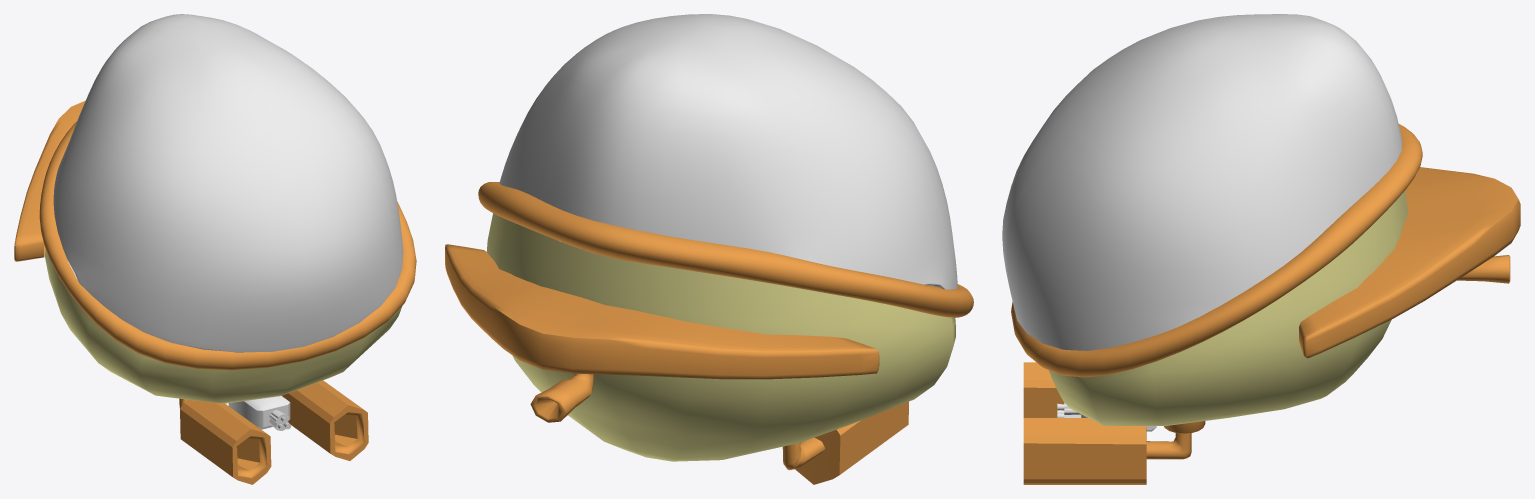
Rendered from SM_RolandVehicle.fbx.
The picture shows the model from 3 angles, left to right: view 1: azimuth 30°, elevation 25°; view 2: azimuth 150°, elevation 25°; view 3: azimuth 270°, elevation 25°; orthographic projection. The views are drawn at different scales.
Visible parts, largest first — view 1: Sm_VehicleGlass, SM_VehicleBody, SM_VehicleMainWeapon_L, SM_VehicleMainWeapon_R, Sm_VehicleSpecialWeapon; view 2: SM_VehicleBody, Sm_VehicleGlass, SM_VehicleMainWeapon_L; view 3: Sm_VehicleGlass, SM_VehicleBody, SM_VehicleMainWeapon_R, SM_VehicleMainWeapon_L.
Part boxes in pixels (bbox=[...]): Sm_VehicleGlass: bbox=[53, 14, 403, 352]; SM_VehicleBody: bbox=[14, 100, 416, 403]; SM_VehicleMainWeapon_L: bbox=[179, 398, 271, 484]; SM_VehicleMainWeapon_R: bbox=[282, 380, 368, 460]; Sm_VehicleSpecialWeapon: bbox=[228, 396, 291, 430]; SM_VehicleBody: bbox=[445, 182, 973, 461]; Sm_VehicleGlass: bbox=[499, 14, 957, 289]; SM_VehicleMainWeapon_L: bbox=[782, 401, 908, 484]; Sm_VehicleGlass: bbox=[1002, 14, 1402, 364]; SM_VehicleBody: bbox=[1011, 124, 1520, 425]; SM_VehicleMainWeapon_R: bbox=[1023, 418, 1205, 484]; SM_VehicleMainWeapon_L: bbox=[1023, 362, 1064, 417].
Bounding box in the file's own units: 402 × 422 × 464.
